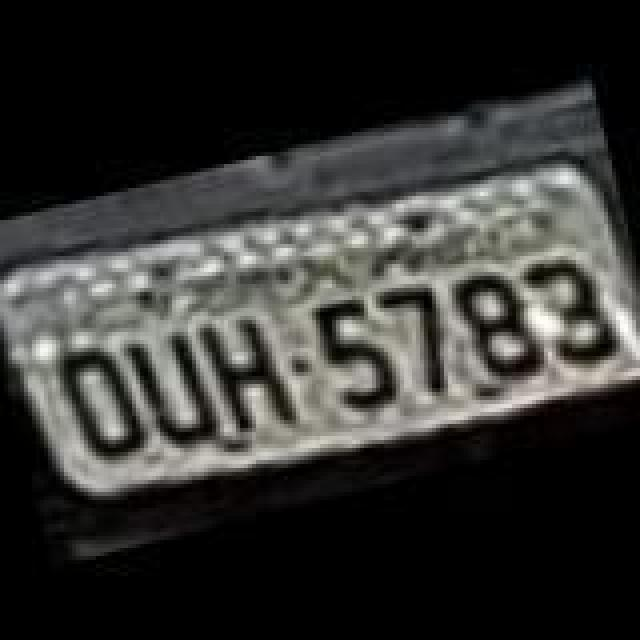3: (512, 240, 624, 376)
5: (300, 284, 404, 420)
7: (376, 272, 472, 400)
8: (442, 256, 550, 392)
H: (184, 302, 304, 442)
O: (50, 336, 158, 472)
U: (124, 318, 228, 458)
